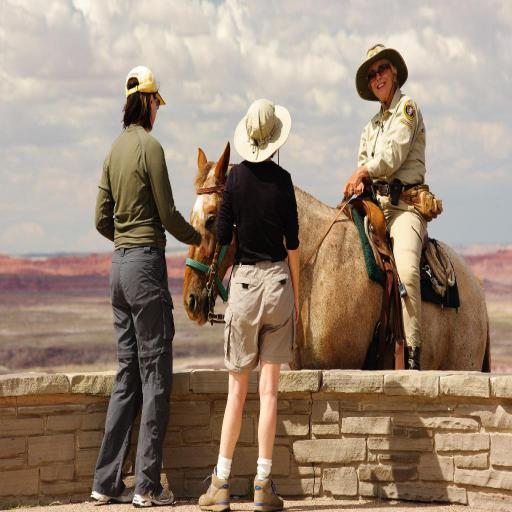horse: (182, 138, 494, 374)
